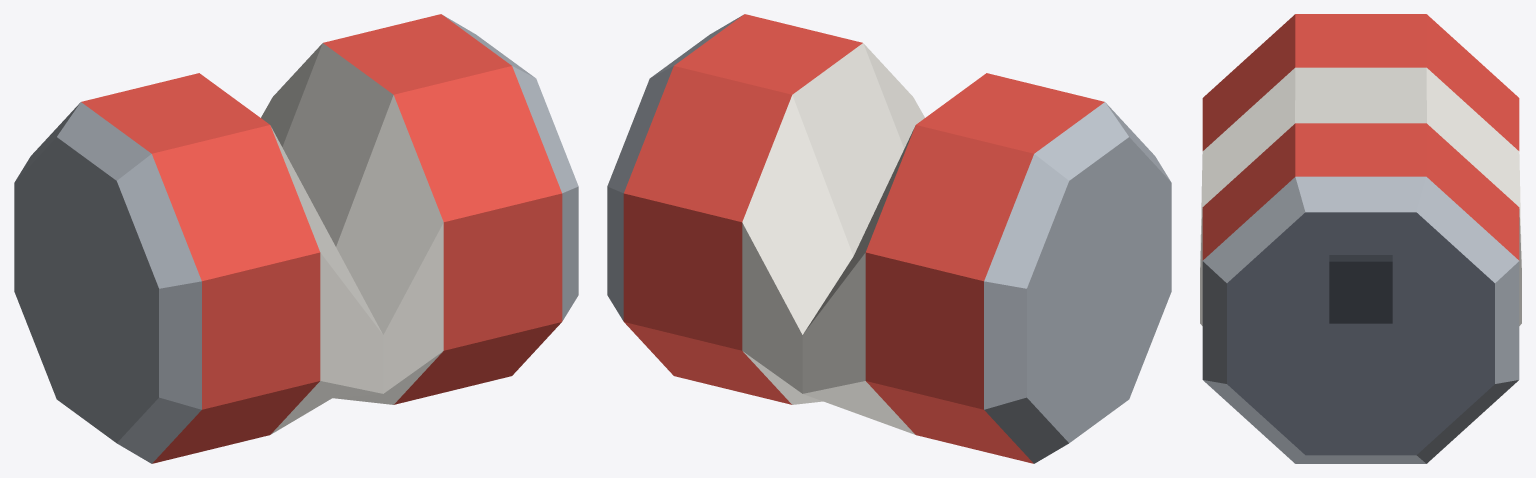
Rendered from J_SodaCan.fbx.
The picture shows the model from 3 angles, left to right: view 1: azimuth 30°, elevation 25°; view 2: azimuth 150°, elevation 25°; view 3: azimuth 270°, elevation 25°; orthographic projection. The views are drawn at different scales.
Visible parts, largest first — view 1: J_SodaCan; view 2: J_SodaCan; view 3: J_SodaCan.
Boxes of the visible parts, x1=… form: J_SodaCan: x1=14, y1=14, x2=578, y2=463; J_SodaCan: x1=607, y1=14, x2=1171, y2=463; J_SodaCan: x1=1200, y1=14, x2=1521, y2=463.
Bounding box in the file's own units: 0.352 × 0.2402 × 0.2439.
